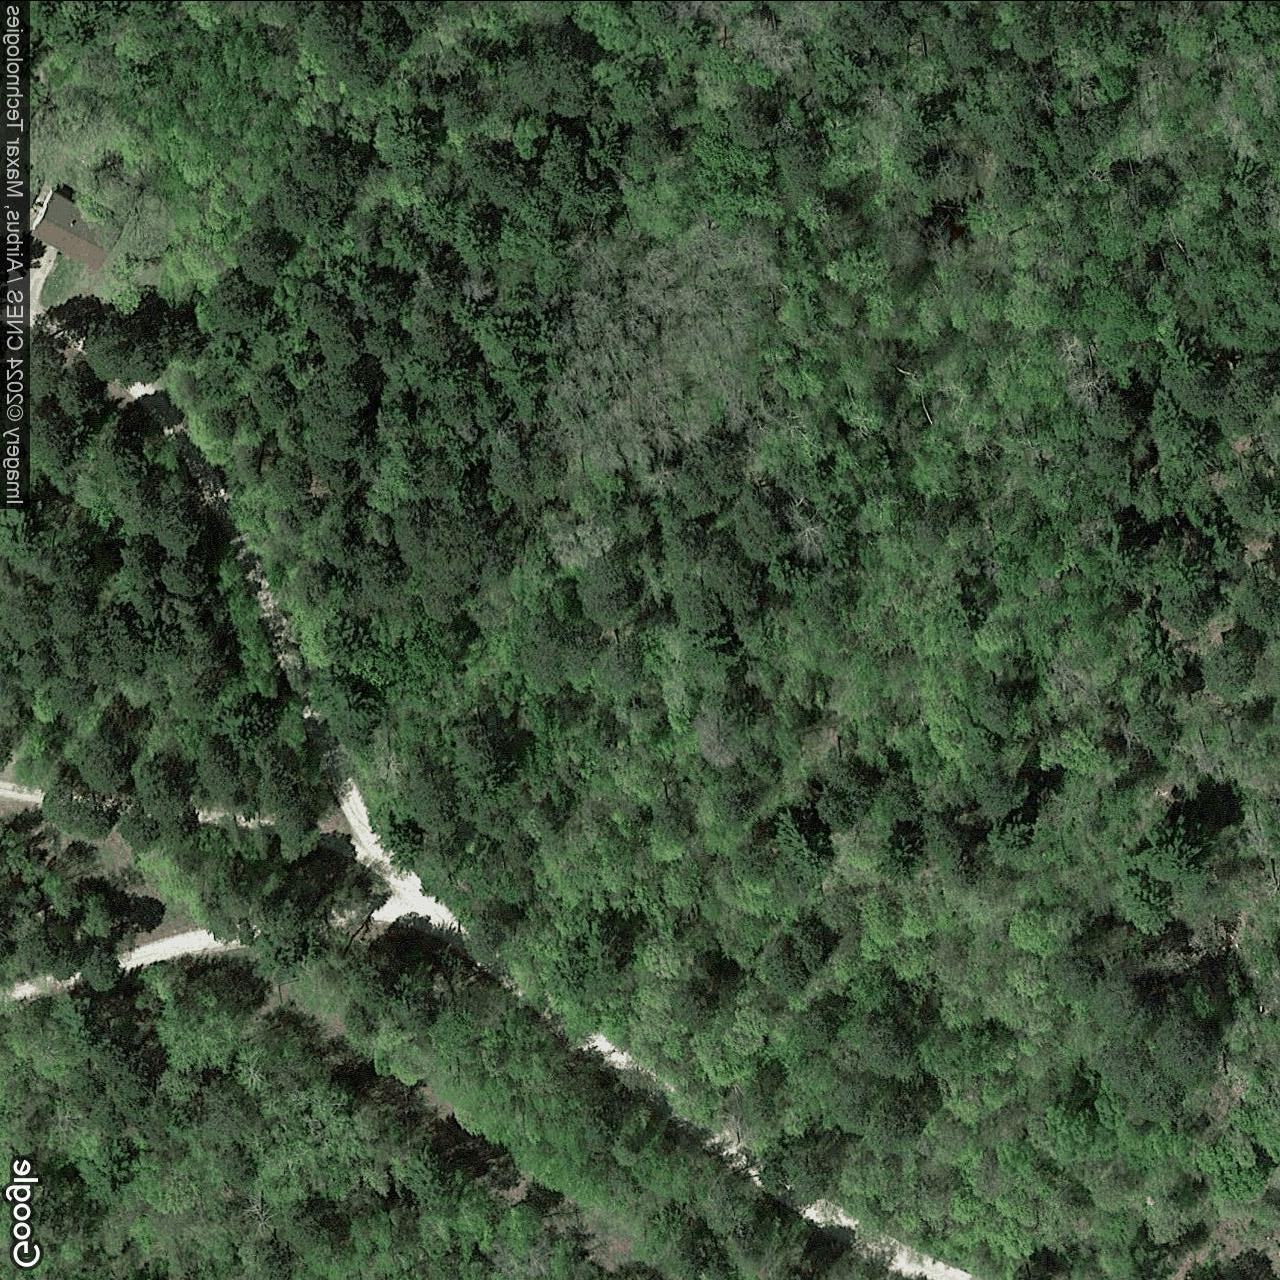House: (28, 186, 125, 272)
